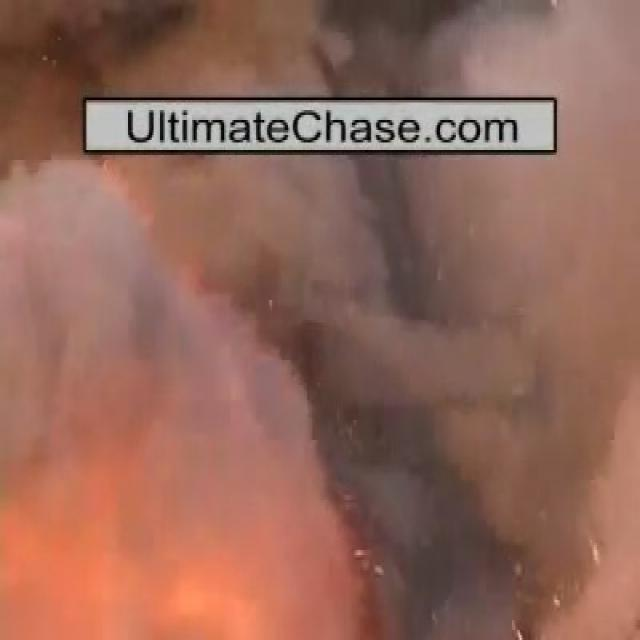smoke: (20, 157, 593, 611), (45, 0, 536, 95)
